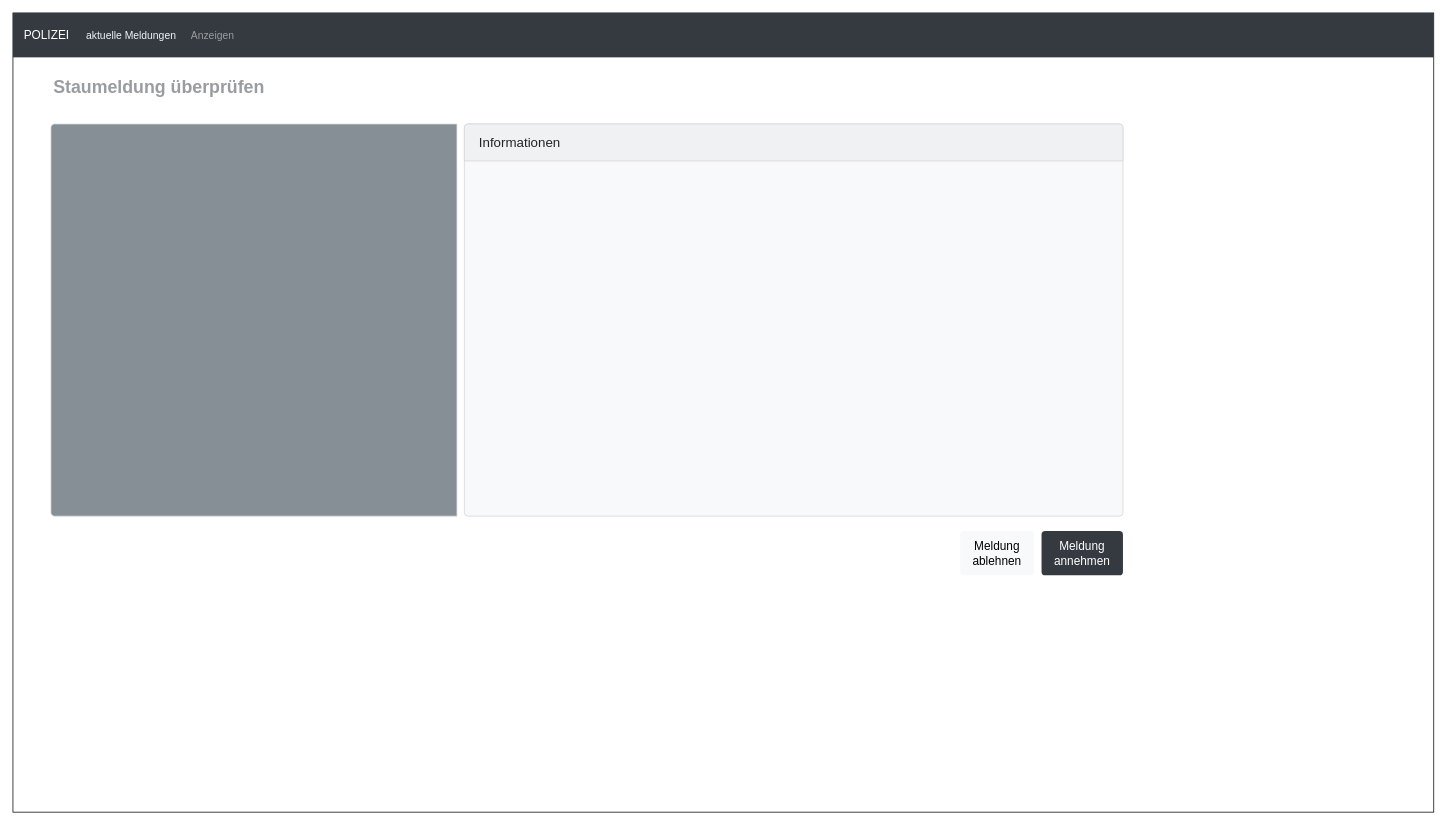
The diagram is 1447 pixels wide and 825 high, and some of its shapes have lost their labels. The shapes that lost their labels are listed below. From the top down, each one's centre as x and y in pixels, then its label:
At [253,319]: "Image".
At [793,319]: "Datum: Uhrzeit: Ort: Angehängte Dateien/Bilder:".
